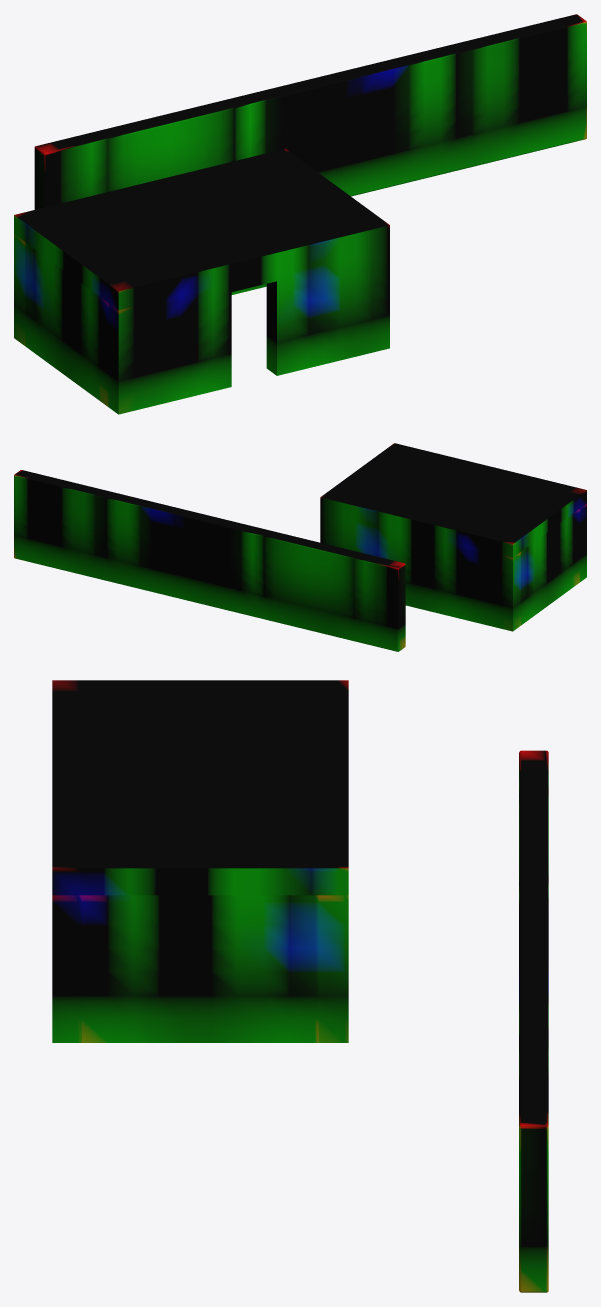
File: showcaseBunker.78b5c9e5.glb
The picture shows the model from 3 angles, top to bottom: view 1: azimuth 30°, elevation 25°; view 2: azimuth 150°, elevation 25°; view 3: azimuth 270°, elevation 25°; orthographic projection. The views are drawn at different scales.
Visible parts, largest first — view 1: showcaseBunker, showcaseBunkerWall; view 2: showcaseBunkerWall, showcaseBunker; view 3: showcaseBunker, showcaseBunkerWall.
Part boxes in pixels (box(x1,y1,x2,y2)): showcaseBunker: box(14, 148, 389, 414); showcaseBunkerWall: box(34, 14, 586, 209); showcaseBunkerWall: box(14, 470, 405, 651); showcaseBunker: box(320, 443, 586, 631); showcaseBunker: box(52, 680, 348, 1042); showcaseBunkerWall: box(519, 750, 548, 1292).
Size of what is drawn, in the model's own units: 14 by 2.6 by 6.7.
